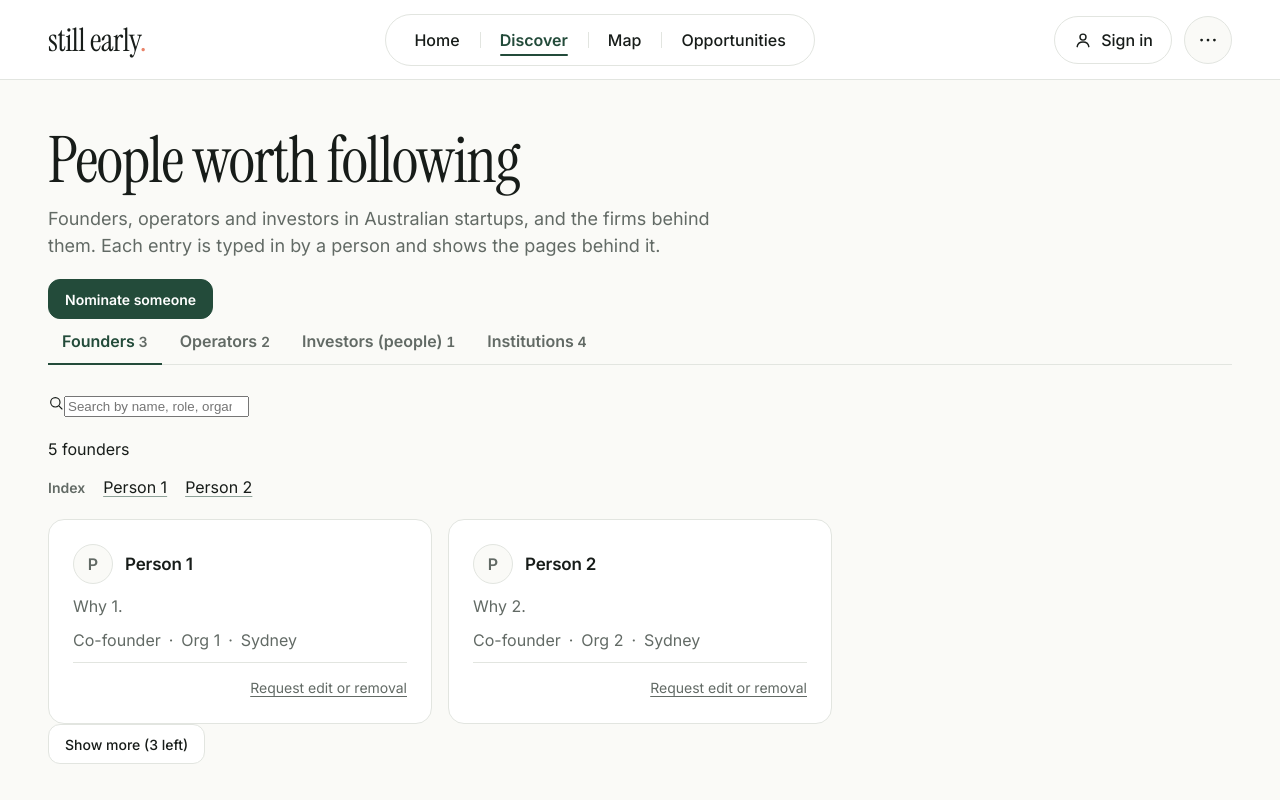
Test case: an index of names, a way to nominate, and a way to ask for more › shows more a page at a time, after the ones already there, and says how many are left
Check: the heading "Person 2" is shown, box [525,554,596,574]
Click the button "Show more (3 left)" at x=127, y=744, box [48,724,205,764]
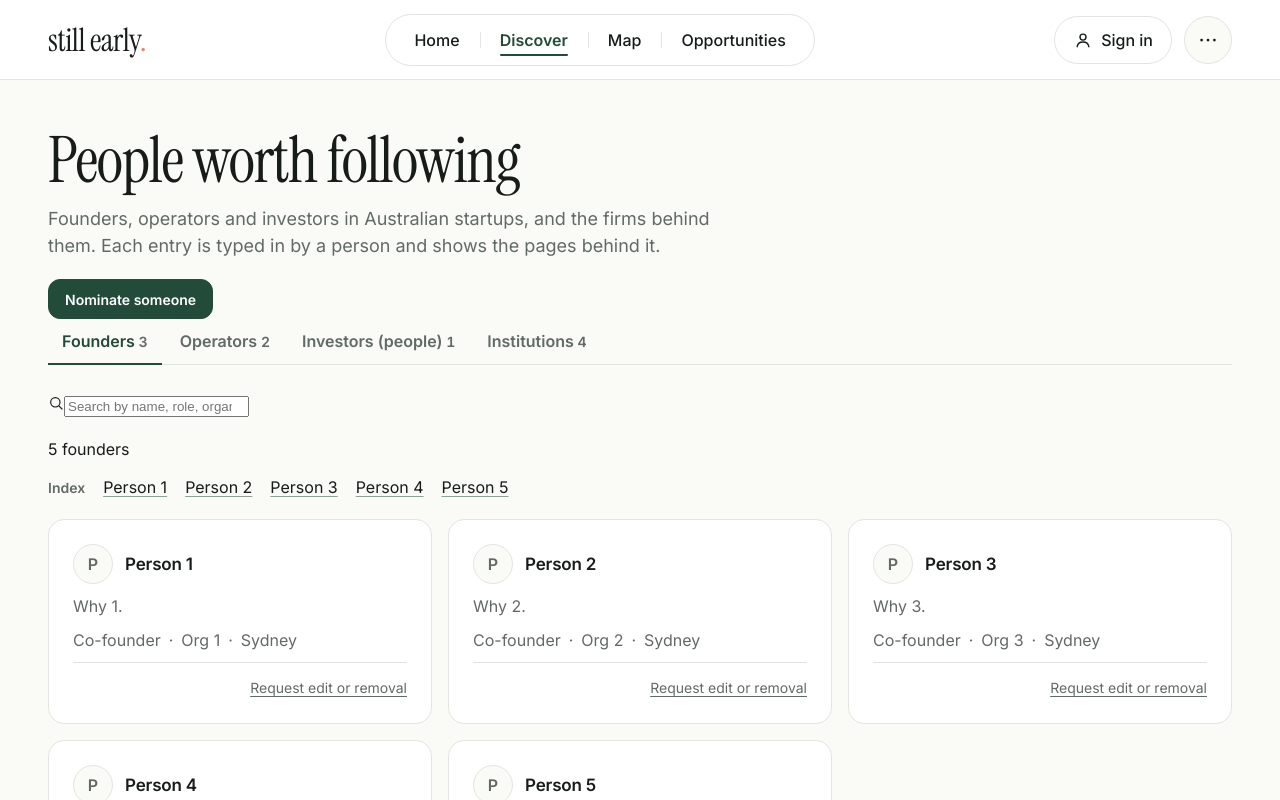
Check: the heading "Person 5" is shown, box [525,775,596,795]
Check: the button "Show more" is gone
